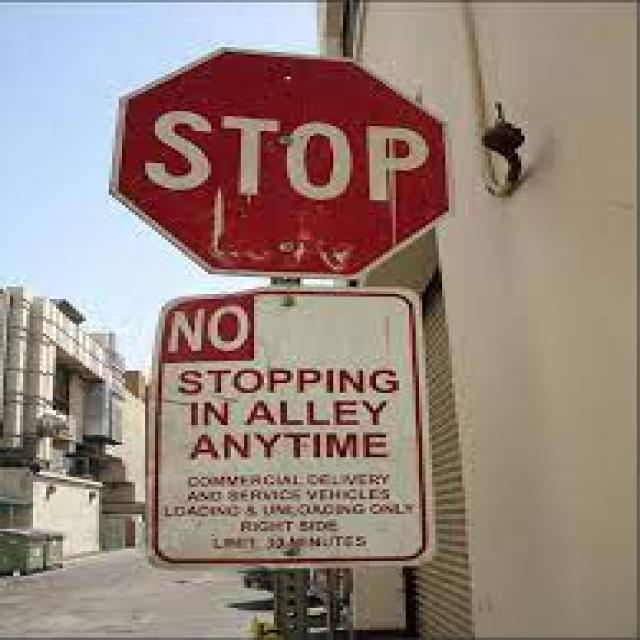stop-sign: (123, 47, 496, 244)
